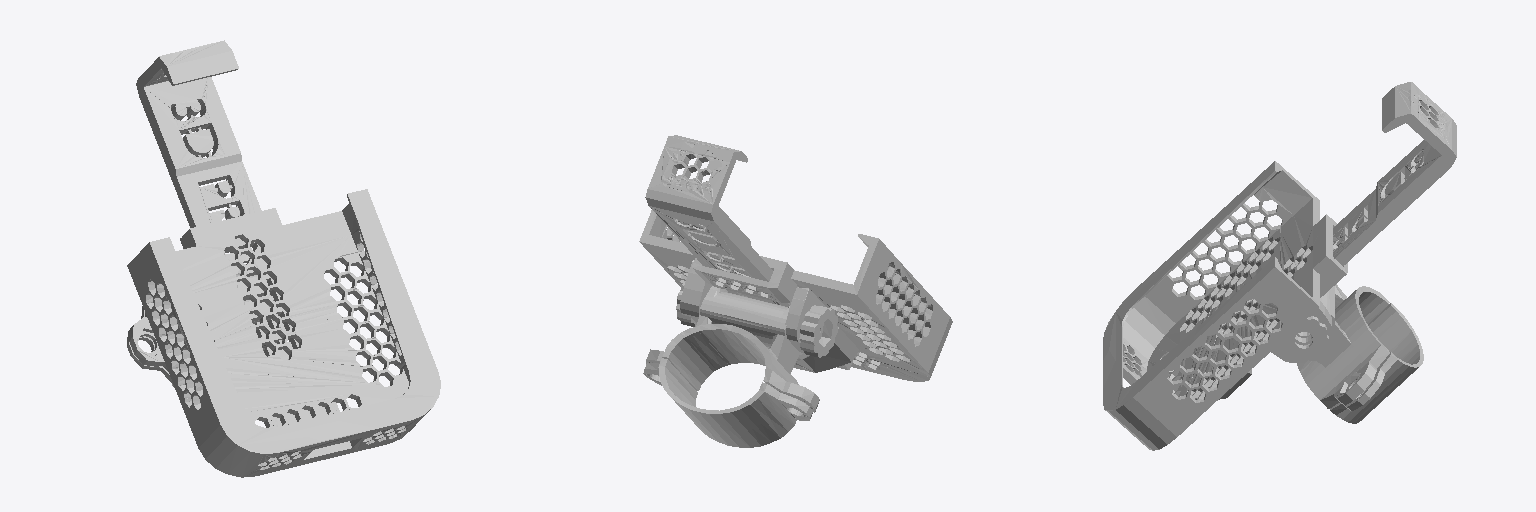
Rendered from bike mount.obj.
The picture shows the model from 3 angles: view 1: azimuth 30°, elevation 25°; view 2: azimuth 150°, elevation 25°; view 3: azimuth 270°, elevation 25°; orthographic projection.
Parts seen in each view (by area): view 1: body_phone, body_phone_part, bike_mount; view 2: body_phone, bike_mount, body_phone_part, nut_holder_002; view 3: body_phone, bike_mount, body_phone_part, nut_holder_1.
Boxes of the visible parts, x1=… form: body_phone: x1=127, y1=189, x2=440, y2=477; body_phone_part: x1=136, y1=40, x2=339, y2=426; bike_mount: x1=127, y1=269, x2=277, y2=387; body_phone: x1=639, y1=210, x2=952, y2=381; bike_mount: x1=643, y1=286, x2=819, y2=447; body_phone_part: x1=645, y1=135, x2=852, y2=369; nut_holder_002: x1=799, y1=305, x2=837, y2=357; body_phone: x1=1103, y1=161, x2=1347, y2=450; bike_mount: x1=1297, y1=284, x2=1423, y2=423; body_phone_part: x1=1333, y1=82, x2=1456, y2=265; nut_holder_1: x1=1279, y1=316, x2=1328, y2=362.
Size of the model in its own units: 0.0501 by 0.07 by 0.0705.